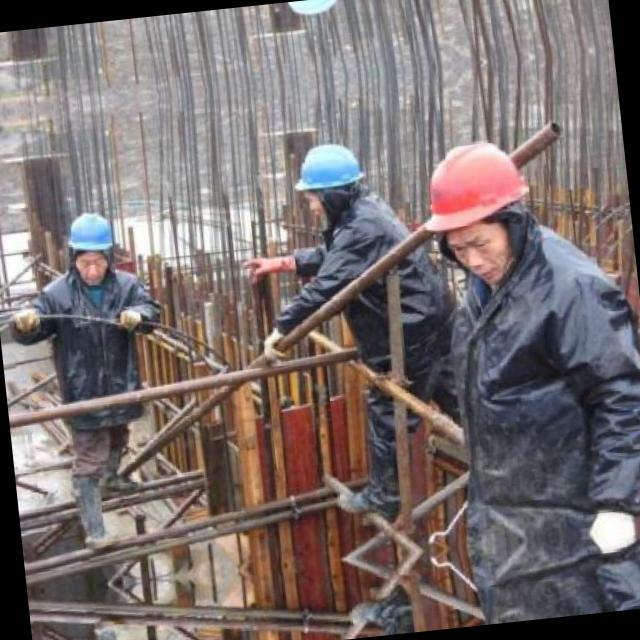helmet: (412, 123, 540, 283), (288, 134, 372, 224), (62, 207, 120, 286), (272, 0, 351, 24)
